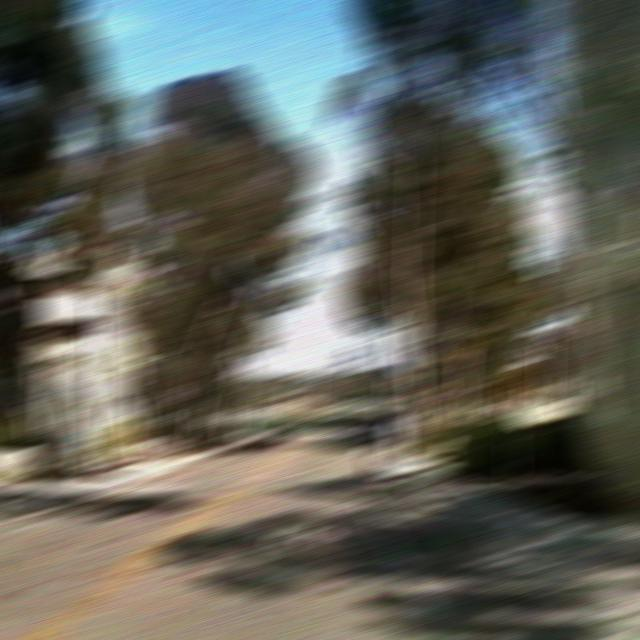pedestrianCrossing: (494, 366, 532, 406)
